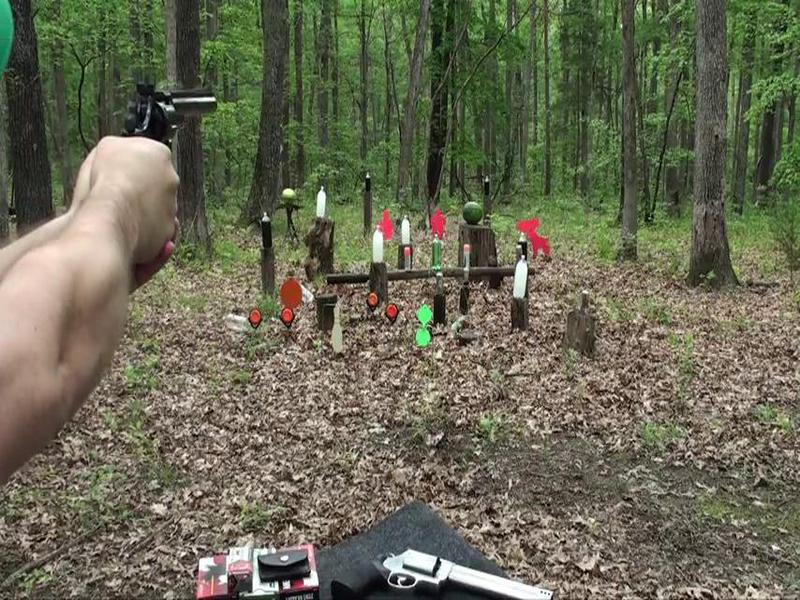Revolver: (108, 64, 227, 182)
